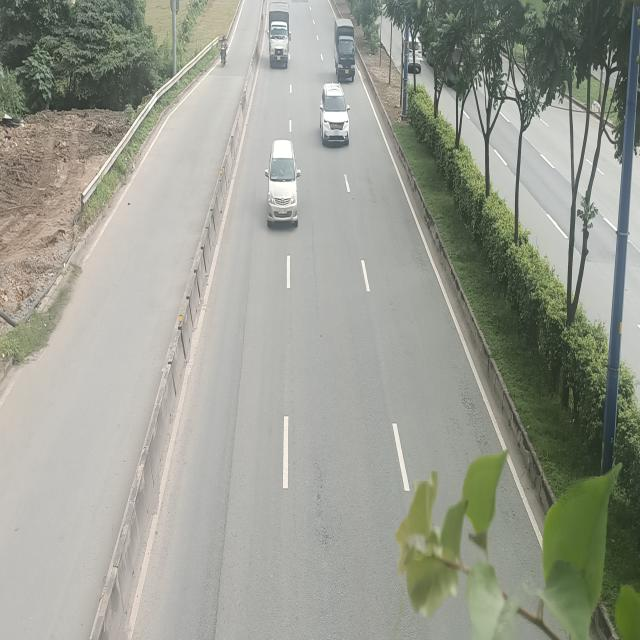car: (265, 138, 300, 226), (320, 86, 352, 148)
truck: (334, 16, 358, 81), (268, 3, 291, 69)
